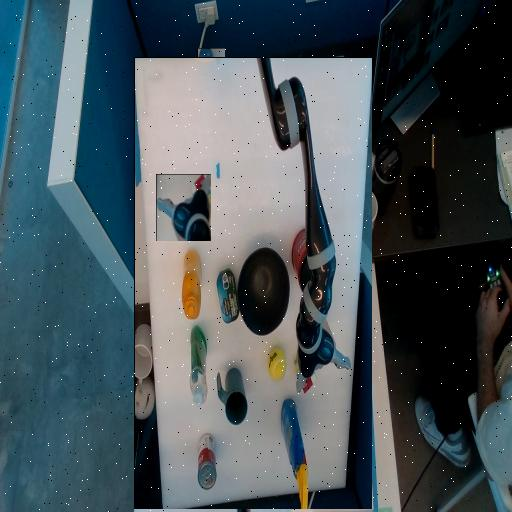bowl: (218, 233, 268, 318)
cleanser: (300, 161, 316, 241)
coffee_can: (175, 283, 214, 322)
jaco: (156, 175, 211, 241)
meat_can: (267, 261, 289, 282)
mug: (259, 143, 289, 199)
mustard_bottle: (305, 249, 324, 317)
rubik: (190, 174, 212, 217)
soup_can: (291, 78, 308, 133)
tennis_ball: (221, 188, 238, 218)
windex: (198, 49, 225, 167)
wooden_block: (170, 219, 195, 244)
workspace: (134, 58, 372, 509)
